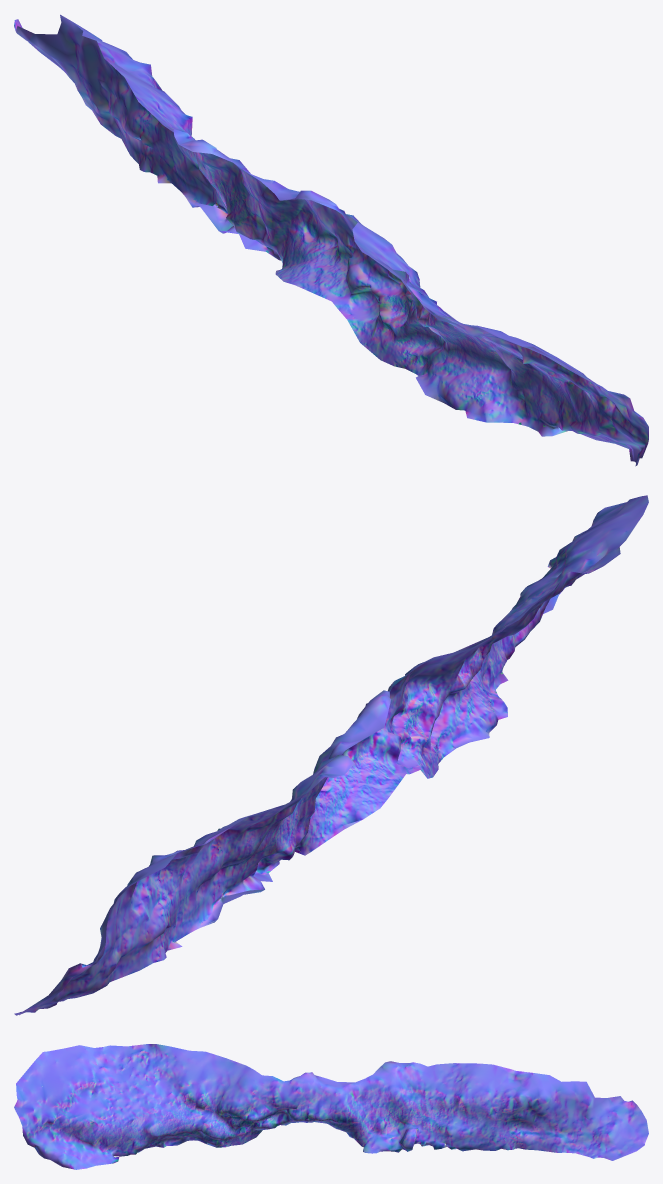
File: RockFormation007.fbx
3 renders of one model, top to bottom at view 1: azimuth 30°, elevation 25°; view 2: azimuth 150°, elevation 25°; view 3: azimuth 270°, elevation 25°, orthographic. The views are drawn at different scales.
Visible parts, largest first — view 1: RFHI07_LOD0; view 2: RFHI07_LOD0; view 3: RFHI07_LOD0.
Boxes of the visible parts, x1,y1,x2,y2 form: RFHI07_LOD0: [14, 14, 648, 466]; RFHI07_LOD0: [14, 495, 648, 1015]; RFHI07_LOD0: [14, 1044, 648, 1169].
Size of the model in its own units: 1810 by 1709 by 11374.
